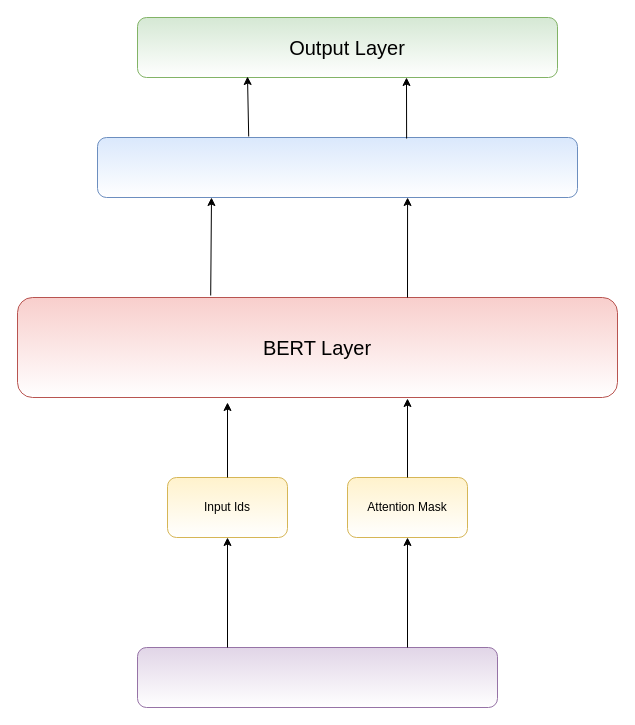
The diagram is 635 pixels wide and 725 high, and some of its shapes have lost their labels. Each missing label, with the box of its shape:
Original1+Edit1+Original2+Edit2: (136, 646, 498, 708)
Pooling Layer: (96, 136, 578, 198)
